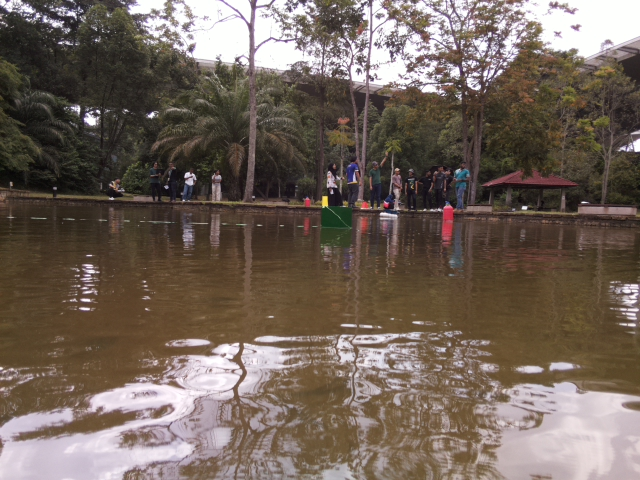obstacle: (319, 206, 353, 231)
